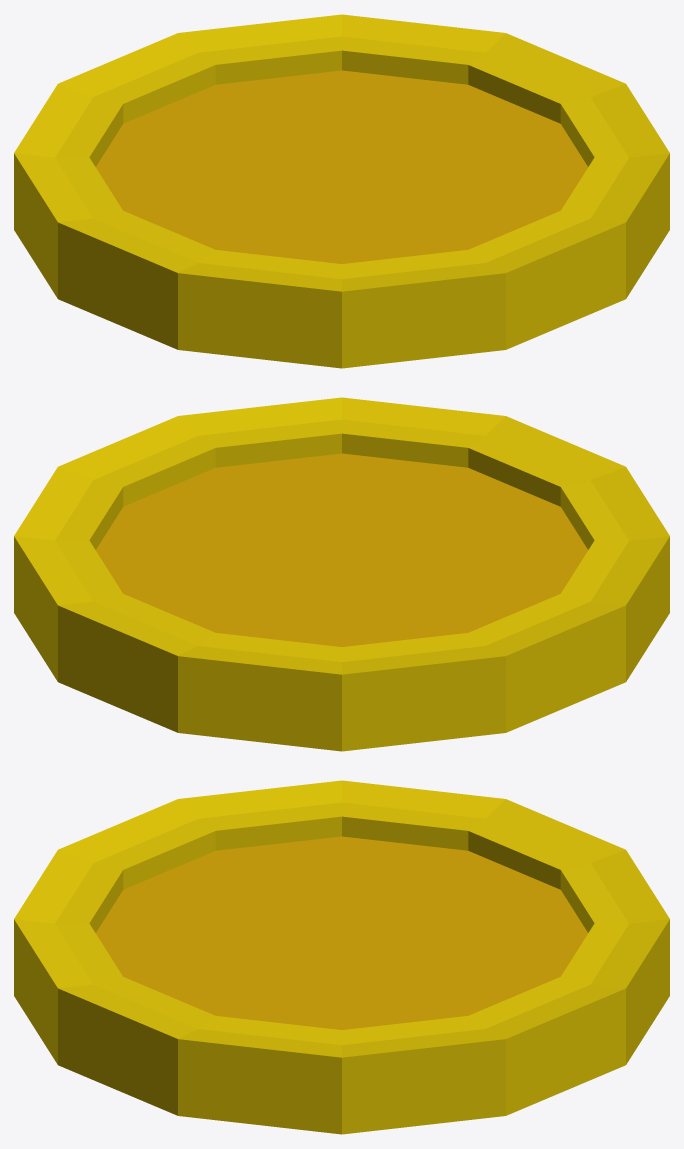
The model's file is Tool_Coin.fbx.
3 renders of one model, top to bottom at view 1: azimuth 30°, elevation 25°; view 2: azimuth 150°, elevation 25°; view 3: azimuth 270°, elevation 25°, orthographic.
Parts seen in each view (by area): view 1: Cylinder; view 2: Cylinder; view 3: Cylinder.
Part boxes in pixels (x1,y1,x2,y2): Cylinder: [14, 14, 669, 368]; Cylinder: [14, 397, 669, 751]; Cylinder: [14, 780, 669, 1134].
Bounding box in the file's own units: 41.91 × 5.42 × 41.91.
